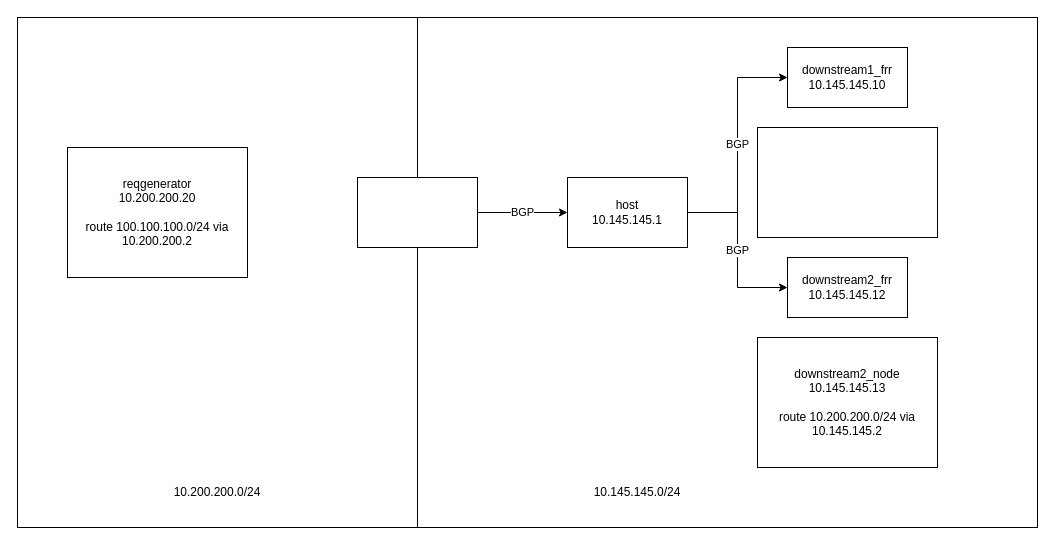
Some shapes in this 1055 by 545 pixel diagram are drawn without their labels. Here are the shapes that lost their labels. From the top down, the centre of each, then its label:
At pixel 847 182: "downstream1_node 10.145.145.11 route 10.200.200.0/24 via 10.145.145.2".
At pixel 417 212: "upstream 10.200.200.2 10.145.145.2".
